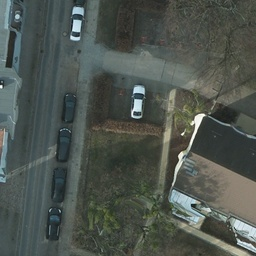car: (61, 92, 86, 126), (45, 208, 62, 240), (55, 128, 70, 162), (52, 166, 66, 200), (68, 8, 82, 41), (133, 84, 145, 119)
